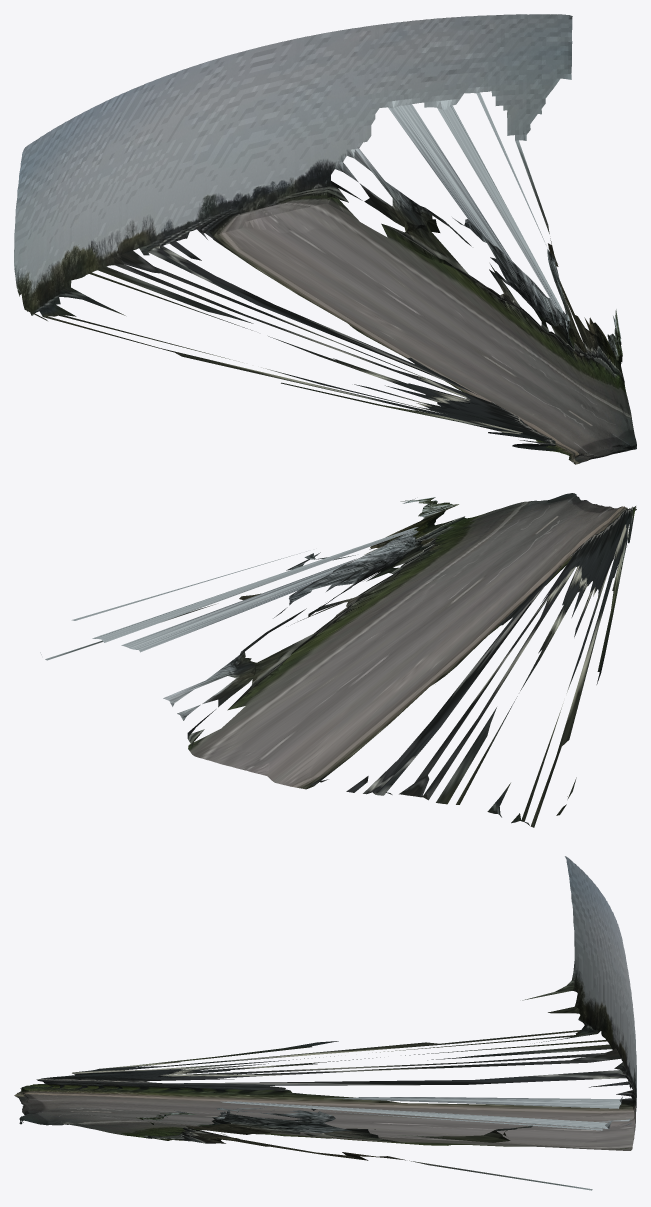
3 views of the same model, one above another, from view 1: azimuth 30°, elevation 25°; view 2: azimuth 150°, elevation 25°; view 3: azimuth 270°, elevation 25° (orthographic). The views are drawn at different scales.
Visible parts, largest first — view 1: defaultobject; view 2: defaultobject; view 3: defaultobject.
Boxes of the visible parts, box(x1,y1,x2,y2) form: defaultobject: box(14, 14, 636, 464); defaultobject: box(40, 493, 636, 827); defaultobject: box(14, 856, 636, 1190).
Size of the model in its own units: 41.06 by 13.63 by 44.74.
Materials: 1 (1 with a texture image).
